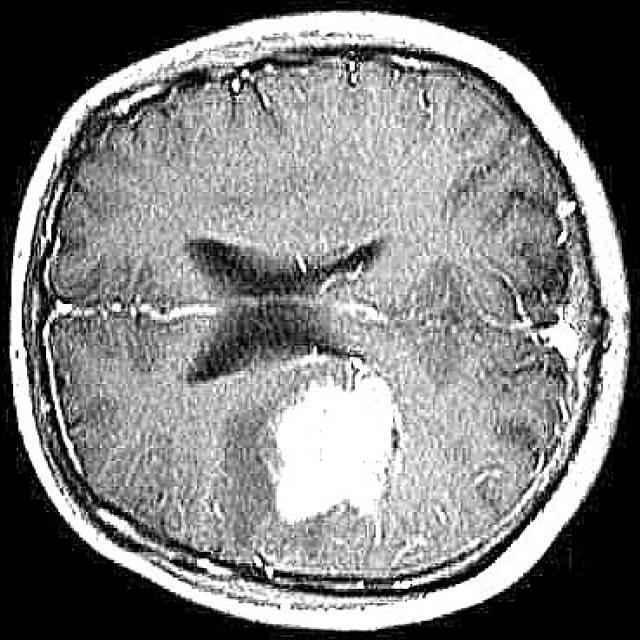tumor: (255, 363, 394, 523)
